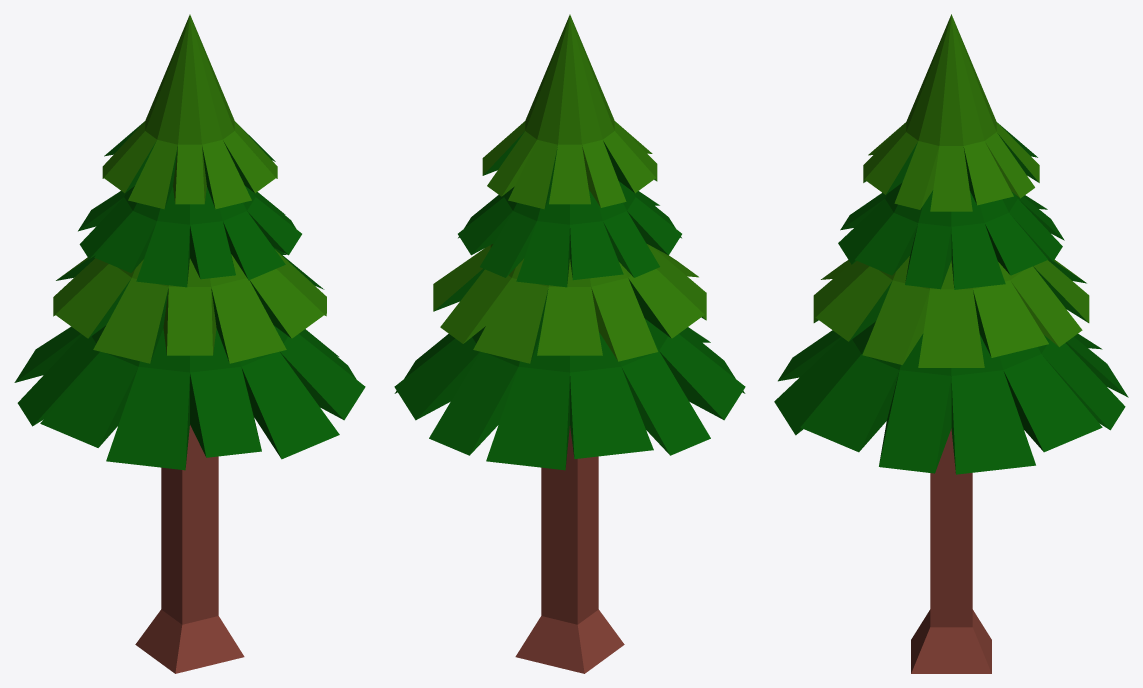
Rendered from Tree_03.fbx.
3 views of the same model, side by side, from view 1: azimuth 30°, elevation 25°; view 2: azimuth 150°, elevation 25°; view 3: azimuth 270°, elevation 25° (orthographic).
Visible parts, largest first — view 1: Tree_03; view 2: Tree_03; view 3: Tree_03.
Boxes of the visible parts, x1,y1,x2,y2 form: Tree_03: (14, 14, 365, 673); Tree_03: (394, 14, 745, 673); Tree_03: (774, 14, 1128, 673).
Size of the model in its own units: 250 by 500 by 250.
